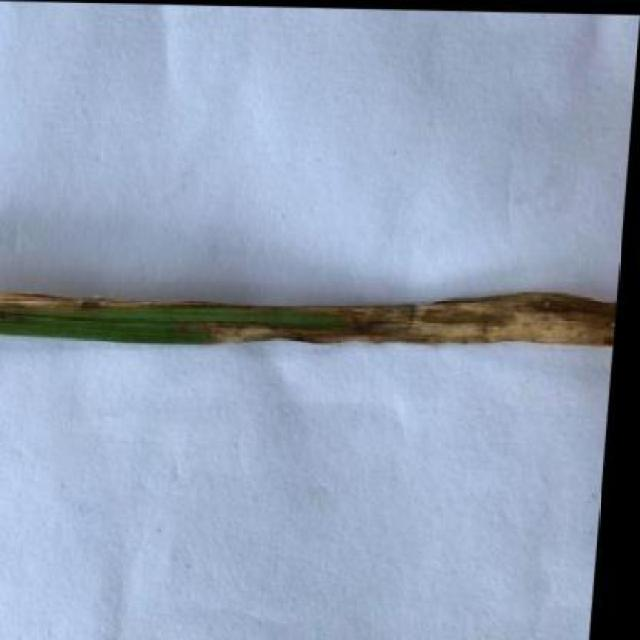Brown_Spot: (0, 270, 623, 364)
